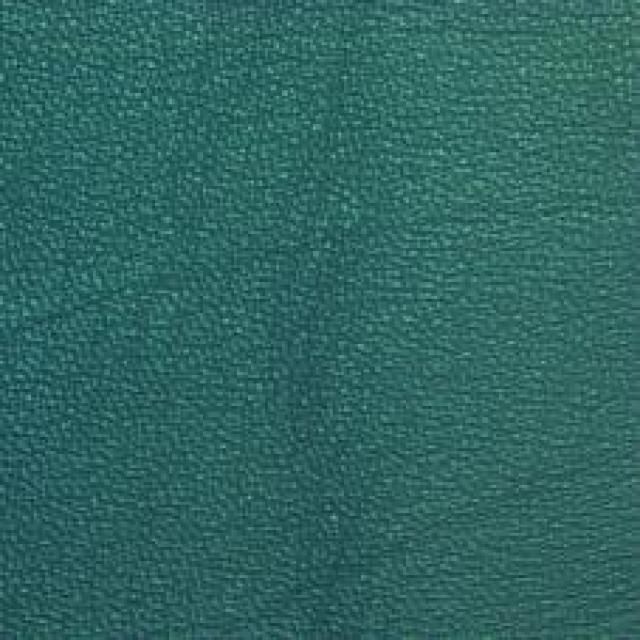Growth Marks: (272, 489, 538, 622), (25, 233, 278, 370)
